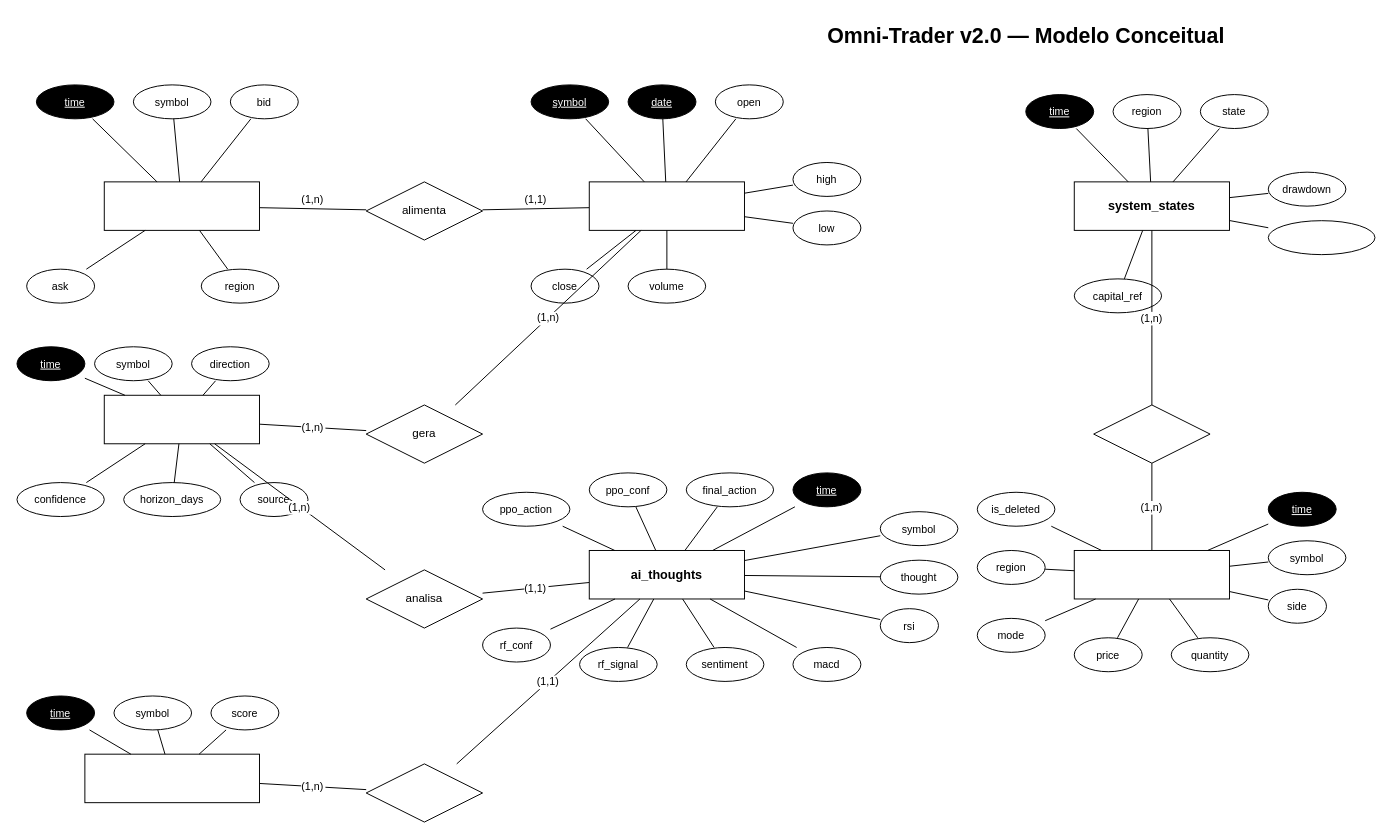
This 1392x839 diagram has some shape labels left out. The centre of each missing label's shape, as x and y in pixels:
influencia: the point at 424,792
market_data: the point at 181,205
max_drawdown: the point at 1321,237
predictions: the point at 181,419
price_history: the point at 666,205
registra: the point at 1151,433
sentiment_scores: the point at 171,778
trade_logs: the point at 1151,574
